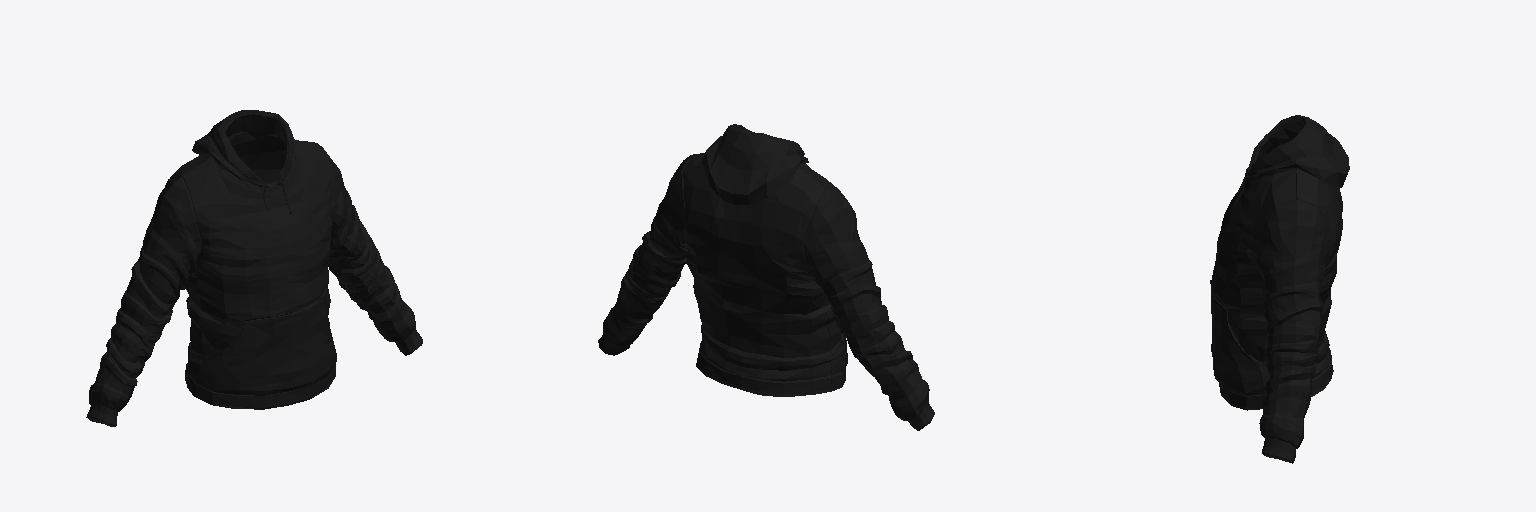
File: gray-hoodie.obj
3 views of the same model, side by side, from view 1: azimuth 30°, elevation 25°; view 2: azimuth 150°, elevation 25°; view 3: azimuth 270°, elevation 25° (orthographic).
Bounding box in the file's own units: 25.82 × 19.83 × 9.36.